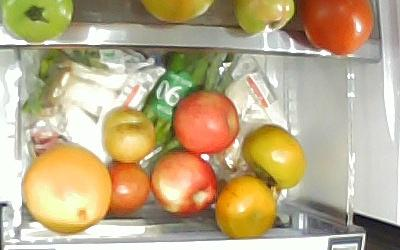apple: (173, 89, 241, 154), (150, 152, 218, 216)
grapefruit: (21, 144, 112, 235)
persimmon: (243, 123, 308, 193), (214, 176, 279, 240)
prune: (101, 106, 156, 164), (107, 161, 150, 215)
